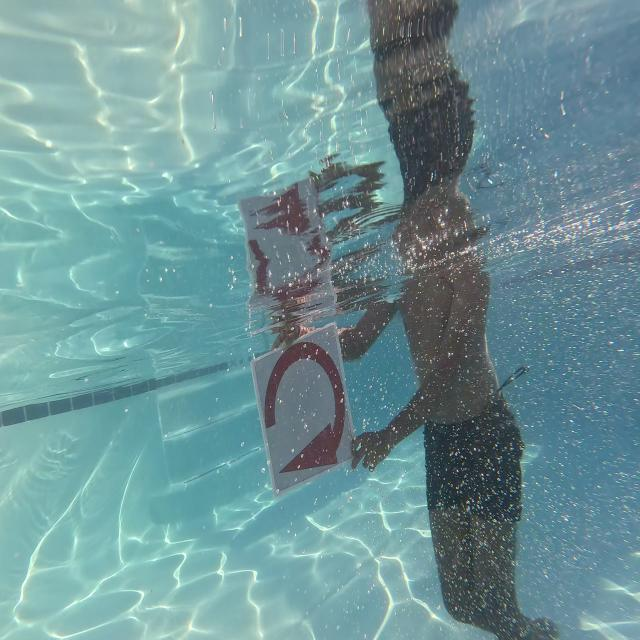red_side: (250, 327, 362, 495)
